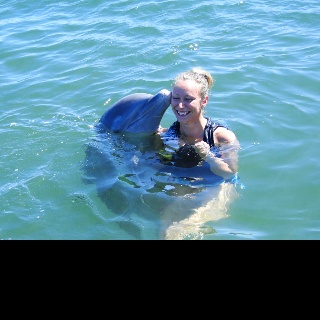without_mask: (171, 82, 201, 123)
